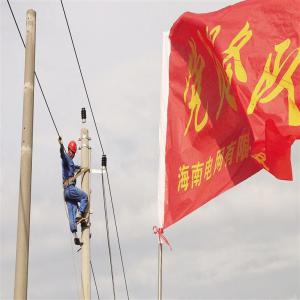red: (69, 141, 79, 161)
